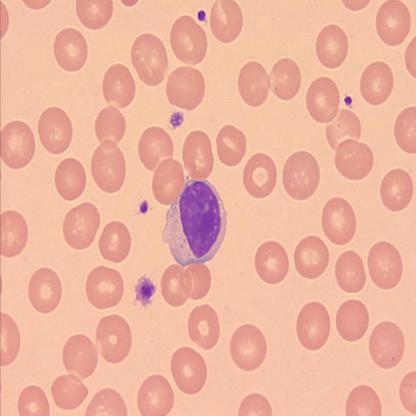Atypical lymphocyte: (158, 171, 231, 268)
